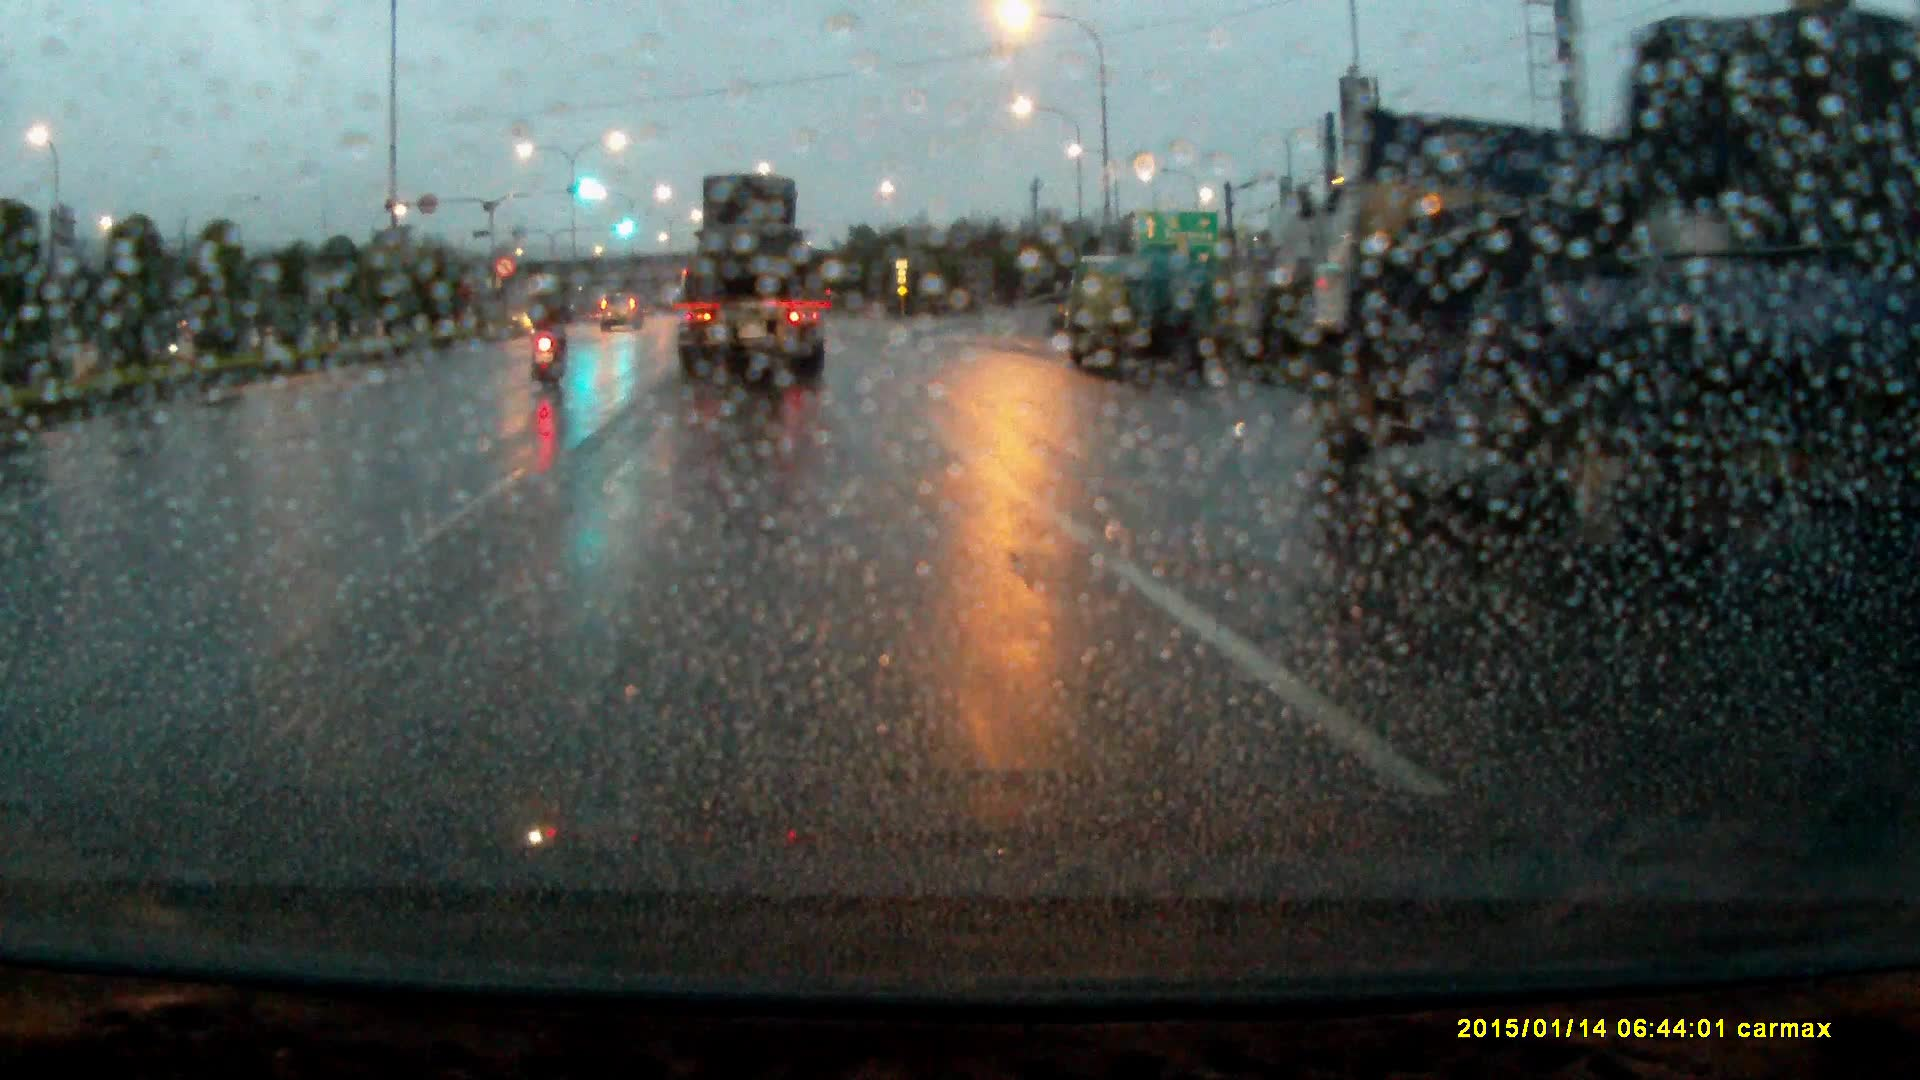rider: (526, 272, 579, 389)
vehicle: (1294, 103, 1916, 571), (670, 171, 829, 391), (1062, 256, 1226, 376), (600, 294, 646, 336)
